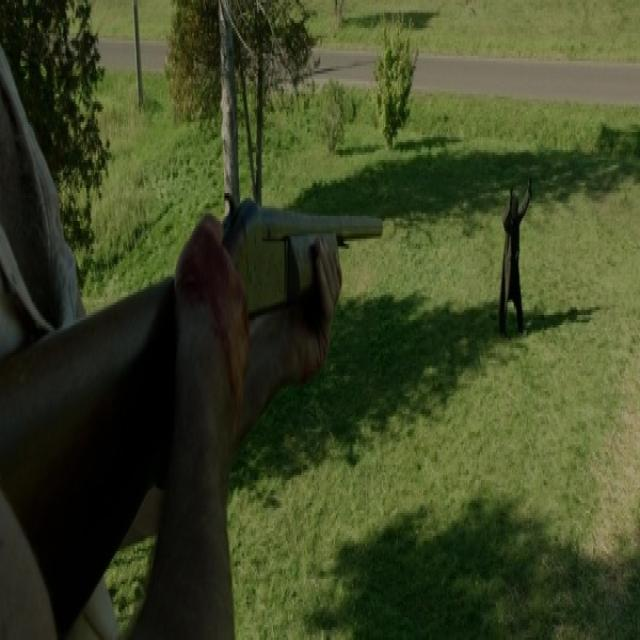rifle: (1, 183, 387, 640)
